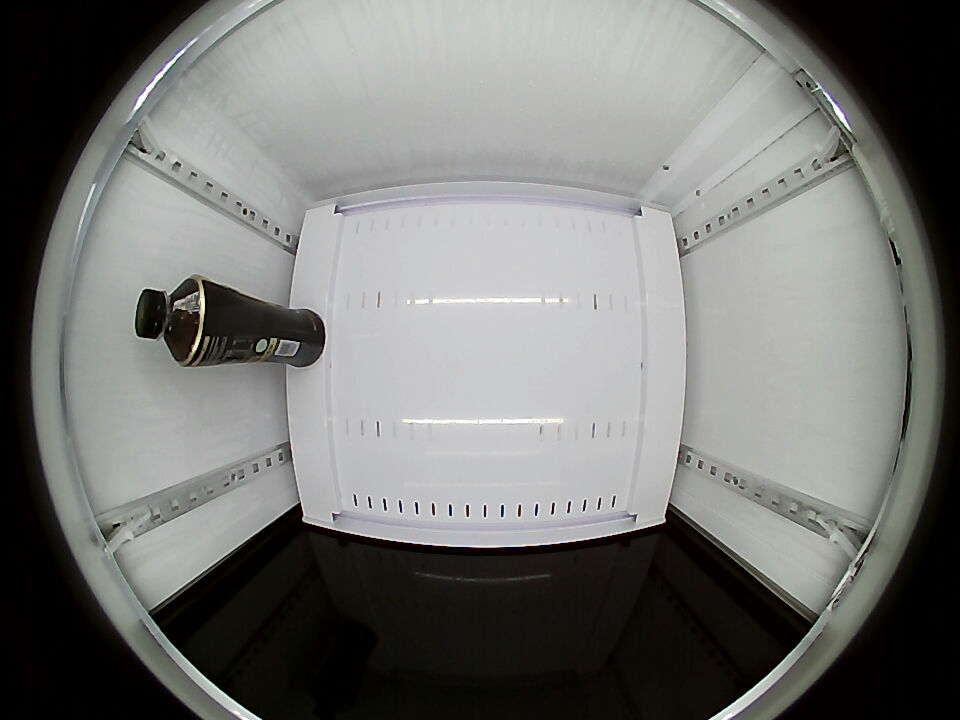rancha-1: (135, 276, 208, 365)
